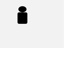human: (15, 4, 29, 25)
